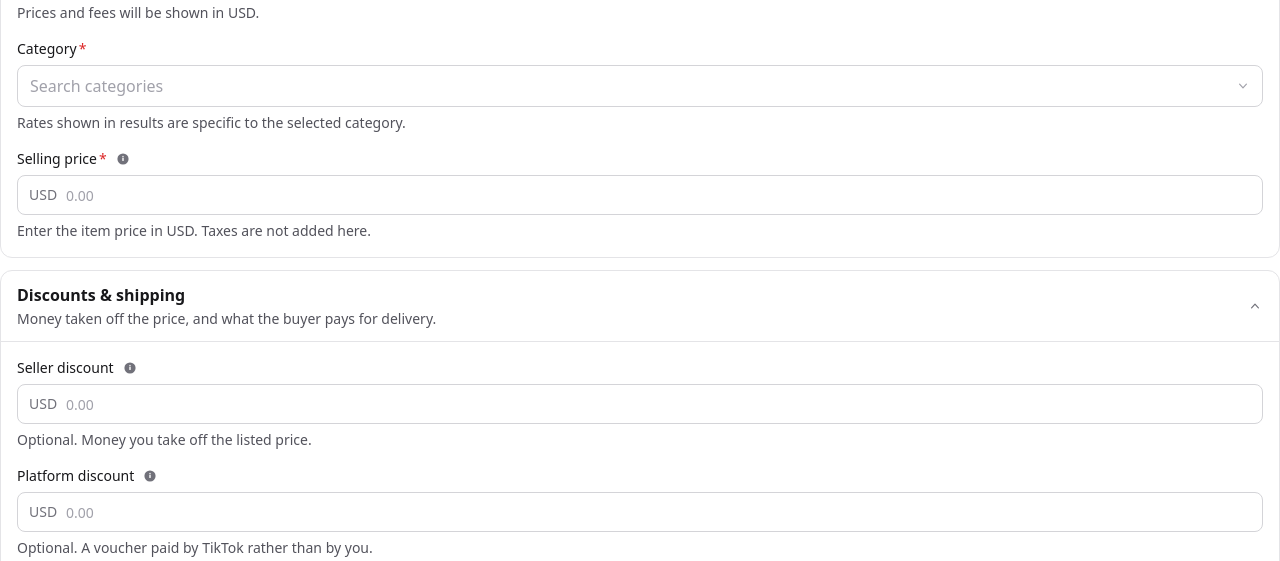
Scenario: CalculatorForm results cycle › renders the panel outside the form so its own inputs are not nested
Focus the dropdown labelled "Category*": (640, 86) [17, 65, 1263, 107]
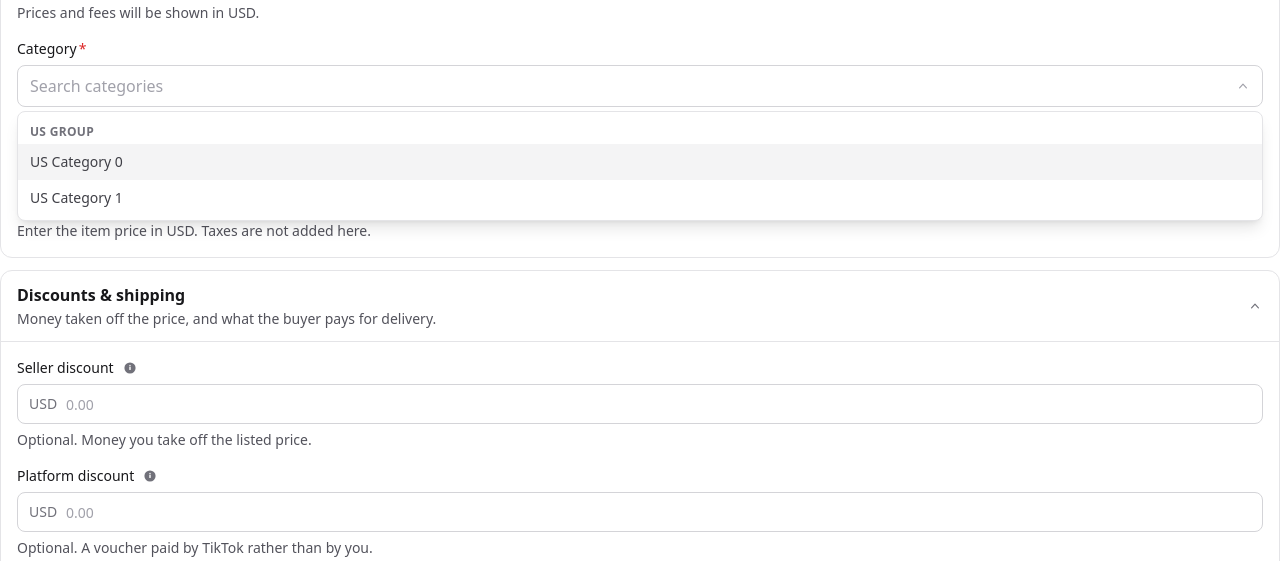
Press the mouse on the option "US Category 0": (76, 162) [18, 144, 1262, 180]
(page scrolled)
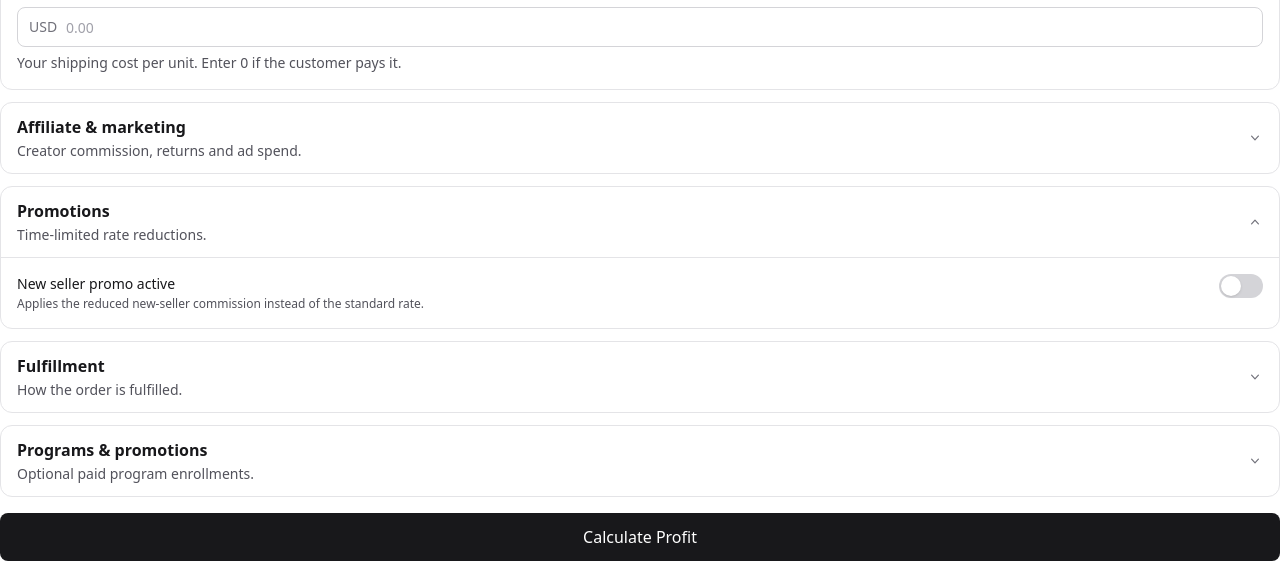
Click the button "Calculate Profit": (640, 537) [0, 513, 1279, 560]
(page scrolled)
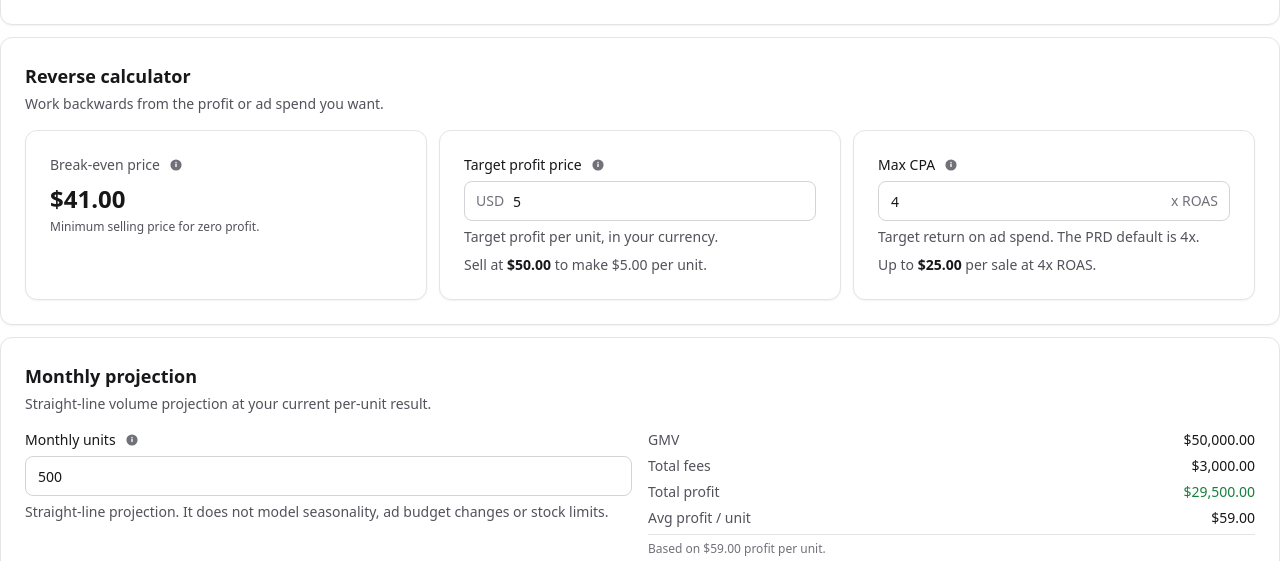
Expected: the form does not show "Target profit price"
Expected: the number field labelled "Target profit price" is shown, [464, 181, 816, 221]
